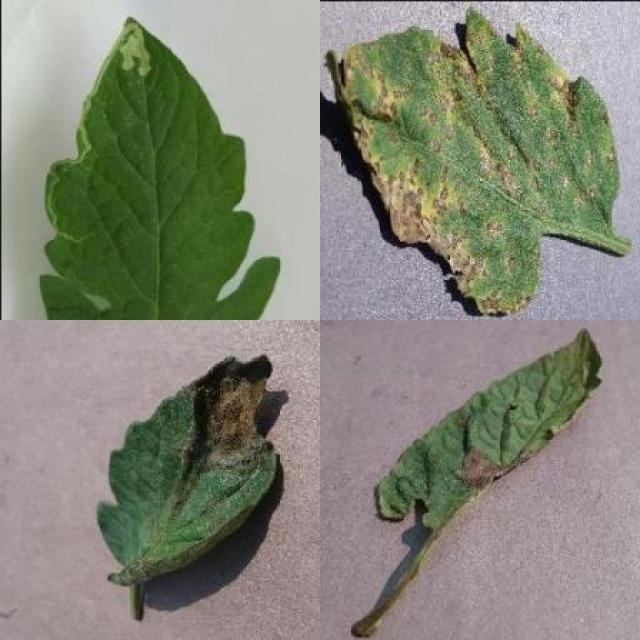Late Blight: (374, 327, 604, 530), (94, 352, 280, 588)
Leaf Miner: (37, 14, 280, 320)
Septoria: (326, 5, 620, 314)
